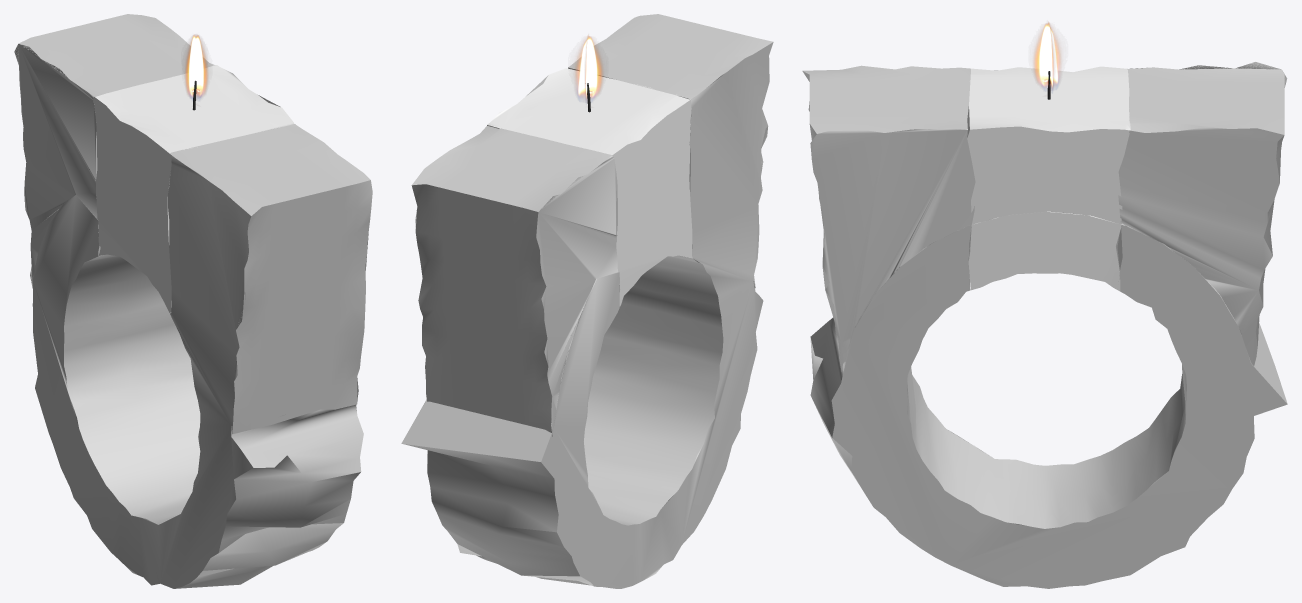
File: bague_hackathon.glb
The picture shows the model from 3 angles, left to right: view 1: azimuth 30°, elevation 25°; view 2: azimuth 150°, elevation 25°; view 3: azimuth 270°, elevation 25°; orthographic projection. The views are drawn at different scales.
Parts seen in each view (by area): view 1: Cube.001, Cube.002, candles-01.003; view 2: Cube.001, Cube.002, candles-01.003; view 3: Cube.001, Cube.002, candles-01.003.
Part boxes in pixels (box(x1,y1,x2,y2)): Cube.001: box(14, 14, 372, 588); Cube.002: box(93, 65, 294, 313); candles-01.003: box(185, 35, 207, 99); Cube.001: box(401, 14, 773, 588); Cube.002: box(487, 68, 692, 307); candles-01.003: box(575, 35, 602, 102); Cube.001: box(802, 62, 1287, 588); Cube.002: box(967, 66, 1130, 291); candles-01.003: box(1034, 22, 1060, 90).
Size of the model in its own units: 0.7806 by 2.84 by 2.33.
4 materials, 1 textured.
